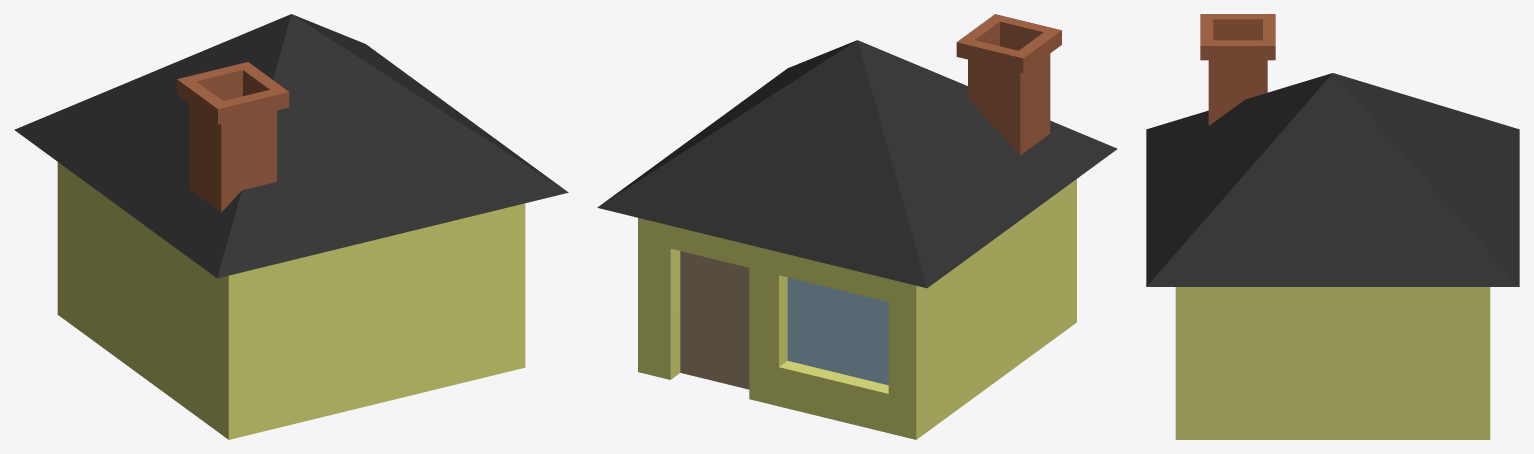
The model's file is house.dae.
The picture shows the model from 3 angles, left to right: view 1: azimuth 30°, elevation 25°; view 2: azimuth 150°, elevation 25°; view 3: azimuth 270°, elevation 25°; orthographic projection. The views are drawn at different scales.
Visible parts, largest first — view 1: House; view 2: House; view 3: House.
Part boxes in pixels (x1,y1,x2,y2): House: [14, 14, 568, 439]; House: [597, 14, 1117, 439]; House: [1146, 14, 1519, 439].
Bounding box in the file's own units: 5.62 × 5.62 × 5.
